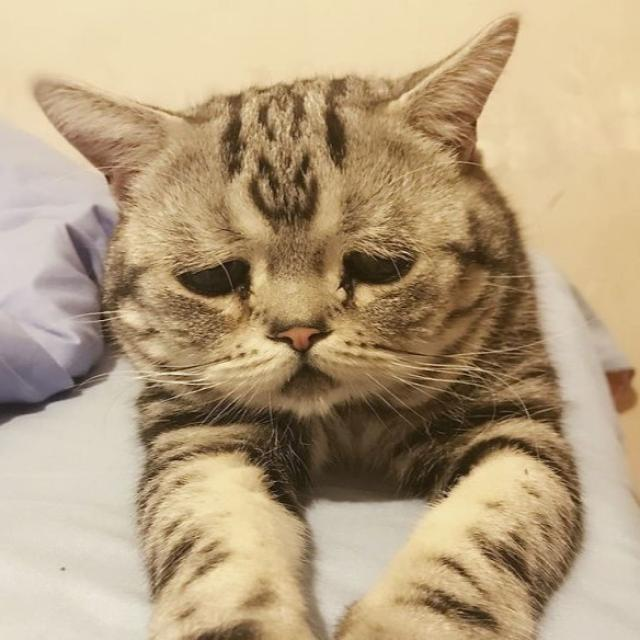Sad: (119, 203, 478, 433)
